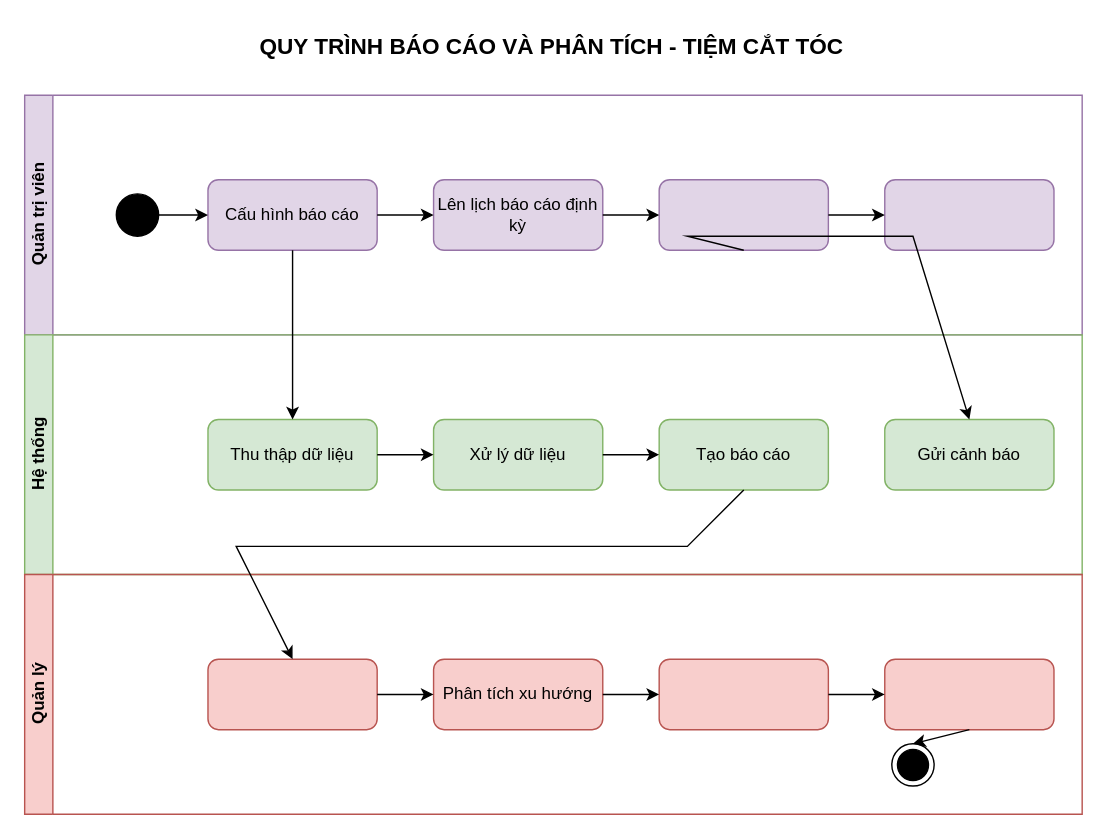
The diagram is 1107 pixels wide and 839 high, and some of its shapes have lost their labels. Each missing label, with the centre of its shape:
"Thiết lập cảnh báo" belongs at pixel 743 214.
"Thực hiện thay đổi" belongs at pixel 968 694.
"Tạo bảng điều khiển" belongs at pixel 968 214.
"Xem báo cáo" belongs at pixel 292 694.
"Đưa ra quyết định" belongs at pixel 743 694.
